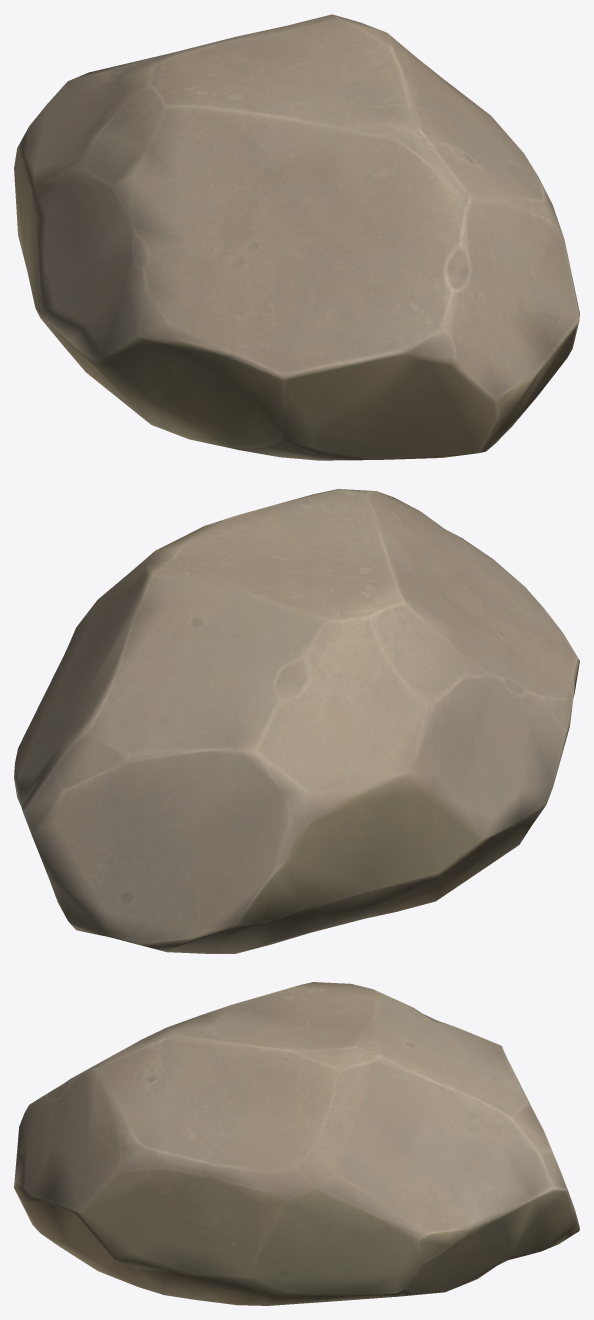
Rendered from SM_Rock_Small_2.fbx.
The picture shows the model from 3 angles, top to bottom: view 1: azimuth 30°, elevation 25°; view 2: azimuth 150°, elevation 25°; view 3: azimuth 270°, elevation 25°; orthographic projection. The views are drawn at different scales.
Visible parts, largest first — view 1: SM_Rock_Small_2_LOD0; view 2: SM_Rock_Small_2_LOD0; view 3: SM_Rock_Small_2_LOD0.
Boxes of the visible parts, <box> form: SM_Rock_Small_2_LOD0: <box>14,14,579,460</box>; SM_Rock_Small_2_LOD0: <box>14,489,579,953</box>; SM_Rock_Small_2_LOD0: <box>14,982,579,1305</box>.
Size of the model in its own units: 97.78 by 139 by 64.95.
1 material, 1 textured.
